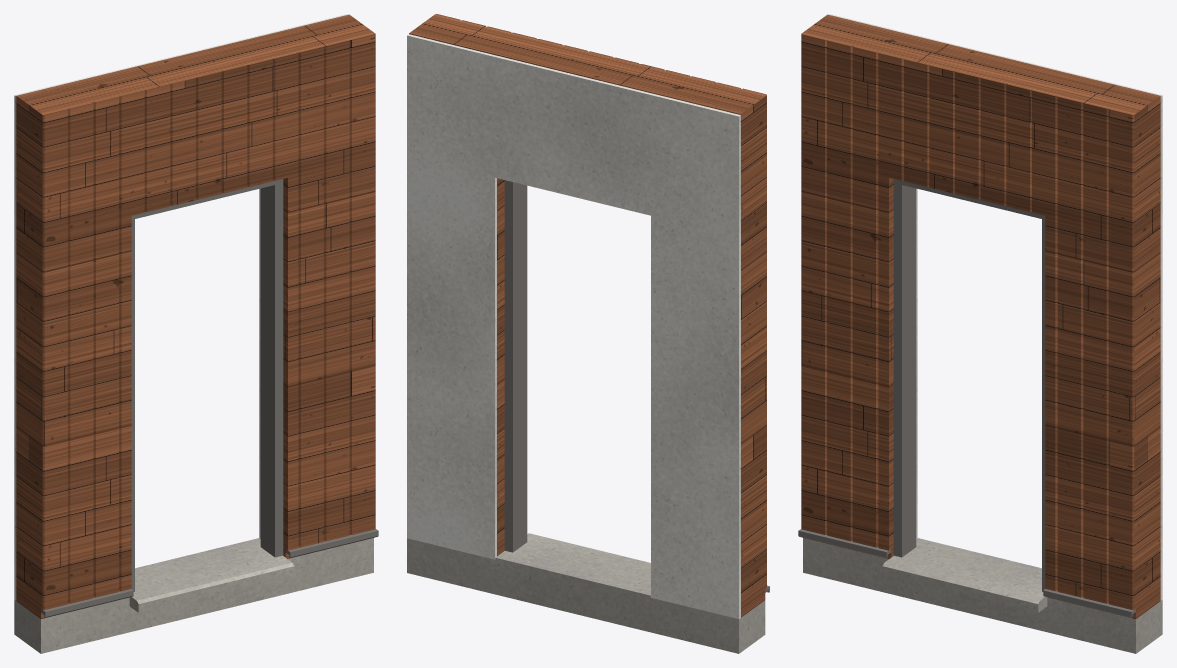
Rendered from wall_side_door.glb.
The picture shows the model from 3 angles, left to right: view 1: azimuth 30°, elevation 25°; view 2: azimuth 150°, elevation 25°; view 3: azimuth 330°, elevation 25°; orthographic projection.
Parts seen in each view (by area): view 1: wall_side_door_boards, wall_side_door_concrete, wall_side_door_metal, wall_side_door_plaster; view 2: wall_side_door_plaster, wall_side_door_boards, wall_side_door_concrete, wall_side_door_metal; view 3: wall_side_door_boards, wall_side_door_concrete, wall_side_door_metal, wall_side_door_plaster.
Boxes of the visible parts, bbox=[...] form: wall_side_door_boards: bbox=[16, 14, 375, 618]; wall_side_door_concrete: bbox=[14, 538, 373, 653]; wall_side_door_metal: bbox=[41, 179, 378, 617]; wall_side_door_plaster: bbox=[14, 14, 348, 600]; wall_side_door_plaster: bbox=[407, 34, 740, 618]; wall_side_door_boards: bbox=[409, 14, 766, 617]; wall_side_door_concrete: bbox=[407, 533, 765, 653]; wall_side_door_metal: bbox=[504, 180, 769, 592]; wall_side_door_boards: bbox=[801, 14, 1160, 618]; wall_side_door_concrete: bbox=[803, 538, 1162, 653]; wall_side_door_metal: bbox=[798, 179, 1135, 617]; wall_side_door_plaster: bbox=[828, 14, 1162, 600].
Bounding box in the file's own units: 2 × 3.1 × 0.37.
4 materials, 3 textured.
